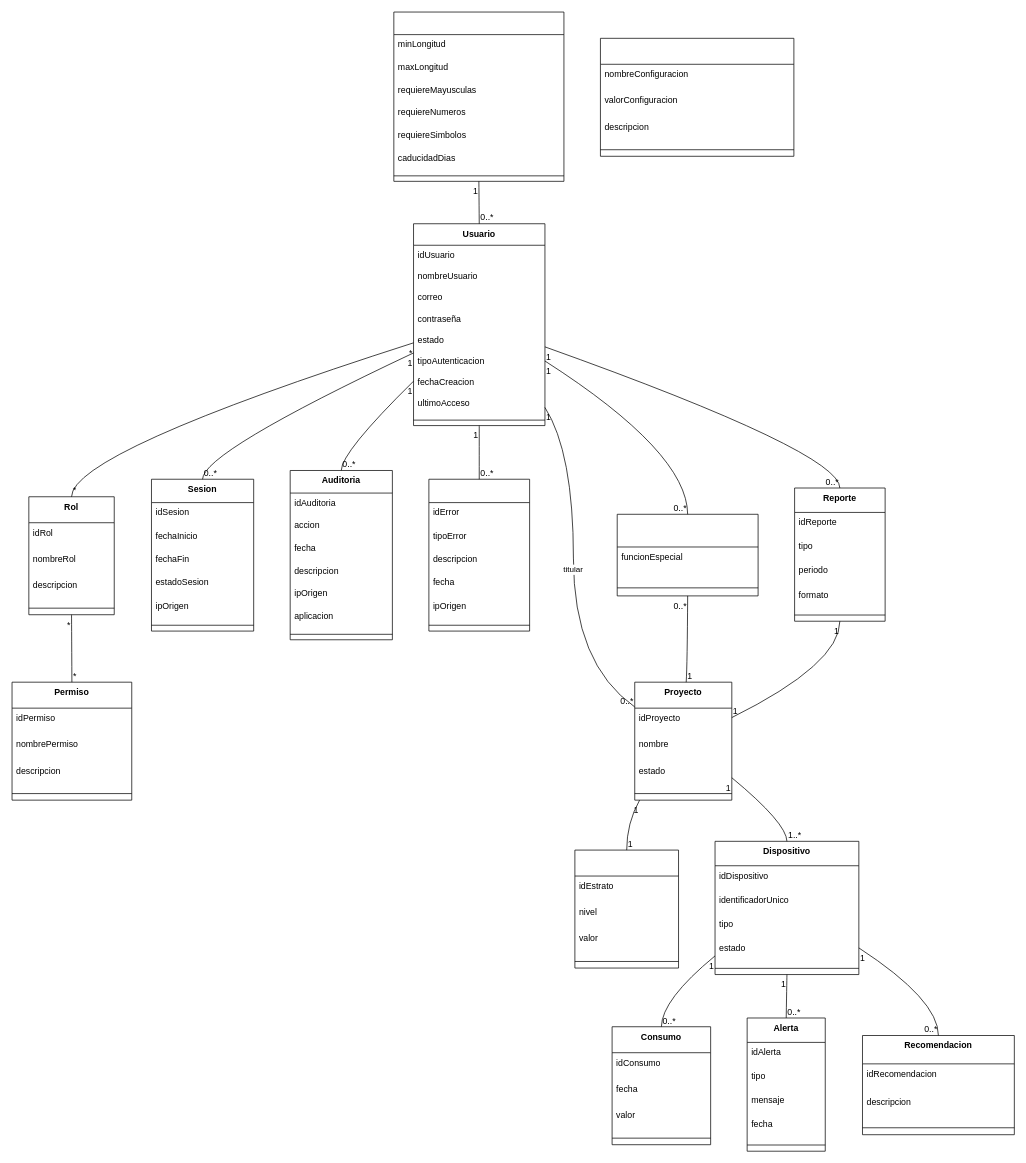
Image size: 1026x1163. Some labels were removed from this diagram. Each missing label, with the box of its shape:
ConfiguracionSeguridad: (600, 38, 794, 156)
Estratificacion: (574, 849, 679, 968)
FuncionUsuario: (616, 514, 758, 596)
LogError: (428, 479, 530, 631)
PoliticaContraseña: (393, 11, 564, 181)
